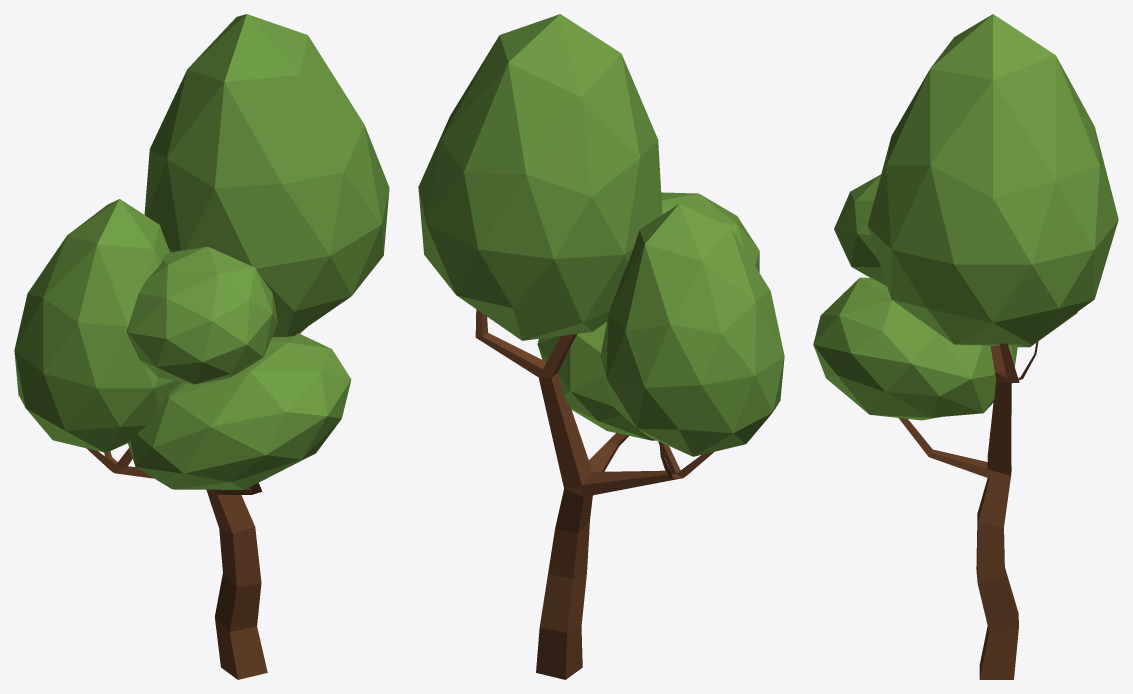
Rendered from resourceTree.fbx.
3 views of the same model, side by side, from view 1: azimuth 30°, elevation 25°; view 2: azimuth 150°, elevation 25°; view 3: azimuth 270°, elevation 25° (orthographic).
Visible parts, largest first — view 1: tree13_leaves, tree13_wood; view 2: tree13_leaves, tree13_wood; view 3: tree13_leaves, tree13_wood.
Part boxes in pixels (<box>): tree13_leaves: <box>14,14,389,489</box>; tree13_wood: <box>86,327,306,679</box>; tree13_leaves: <box>418,14,784,456</box>; tree13_wood: <box>475,309,713,679</box>; tree13_leaves: <box>813,14,1118,420</box>; tree13_wood: <box>899,342,1038,679</box>.
Bounding box in the file's own units: 2.05 × 3.77 × 1.59.
